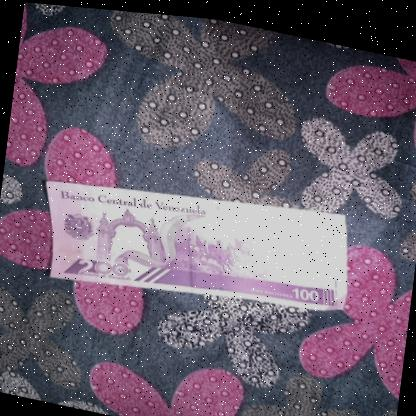one_hundred-back-vef: (32, 148, 356, 334)
